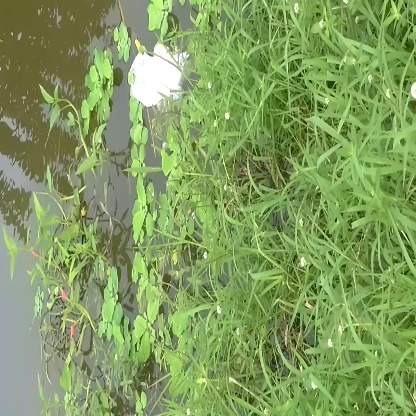plastic-bag: (123, 38, 198, 107)
